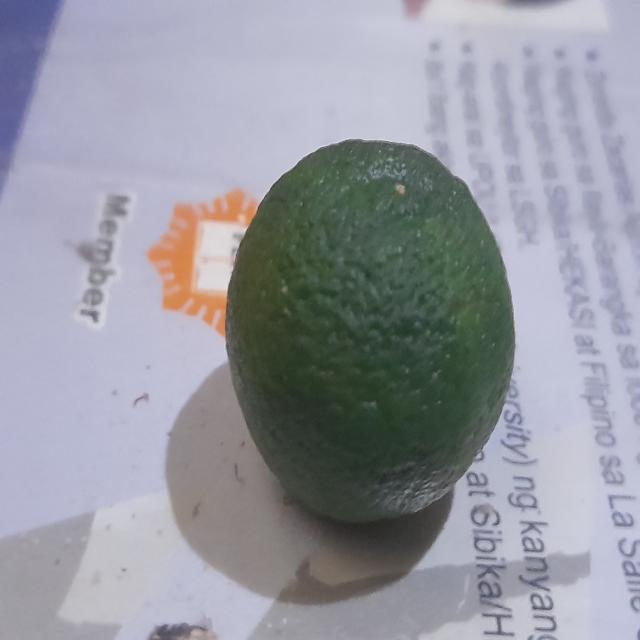heathy: (222, 130, 518, 525)
